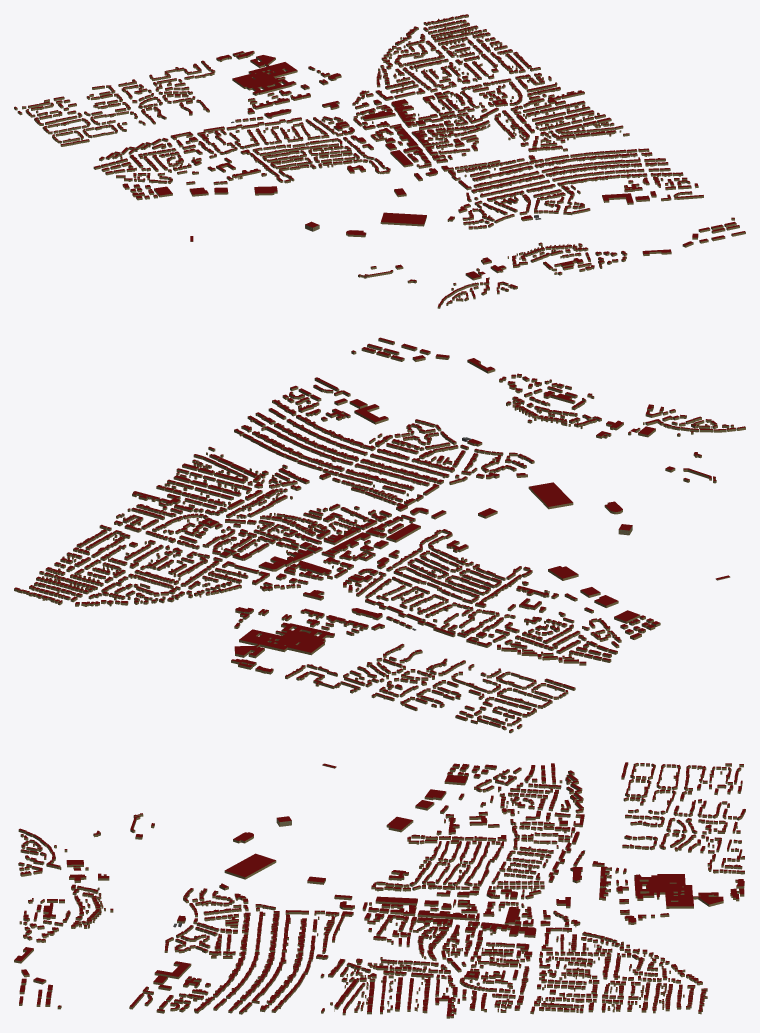
3 renders of one model, top to bottom at view 1: azimuth 30°, elevation 25°; view 2: azimuth 150°, elevation 25°; view 3: azimuth 270°, elevation 25°, orthographic. The views are drawn at different scales.
Parts seen in each view (by area): view 1: Building0, Building HM Revenue and Customs; view 2: Building0, Building HM Revenue and Customs; view 3: Building0, Building HM Revenue and Customs.
Boxes of the visible parts, left/top/right/bottom form: Building0: left=232, top=55, right=297, bottom=95; Building HM Revenue and Customs: left=380, top=212, right=426, bottom=226; Building0: left=234, top=622, right=334, bottom=658; Building HM Revenue and Customs: left=528, top=482, right=573, bottom=509; Building0: left=634, top=874, right=723, bottom=908; Building HM Revenue and Customs: left=224, top=853, right=276, bottom=879.
Bounding box in the file's own units: 1734 × 15 × 2107.
